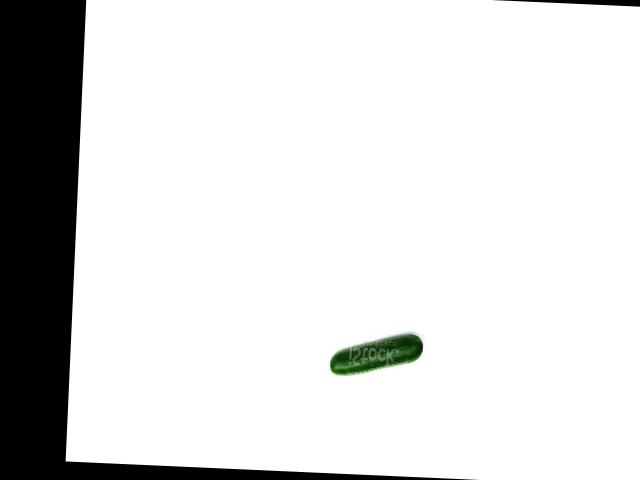cucumber: (329, 331, 424, 378)
